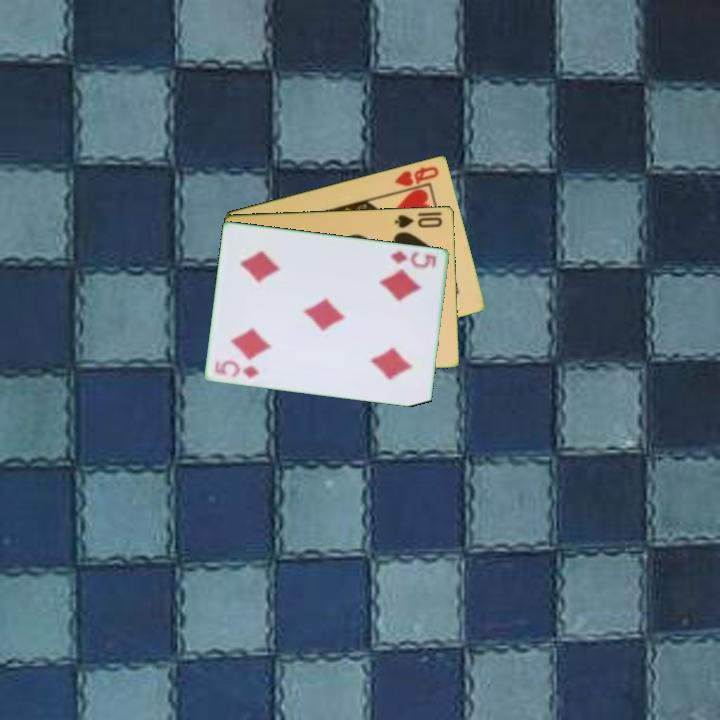10s: (392, 211, 445, 230)
5d: (386, 247, 440, 271), (212, 357, 262, 381)
Qh: (391, 162, 442, 189)
